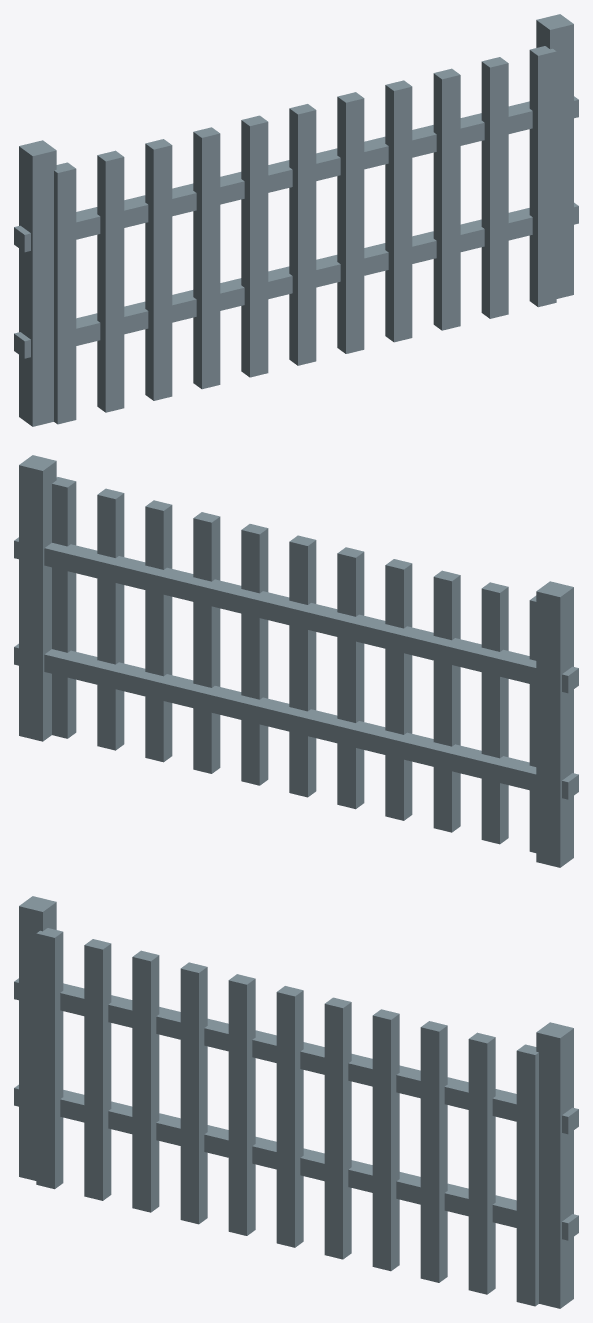
File: metal_fence.glb
The picture shows the model from 3 angles, top to bottom: view 1: azimuth 30°, elevation 25°; view 2: azimuth 150°, elevation 25°; view 3: azimuth 330°, elevation 25°; orthographic projection.
Visible parts, largest first — view 1: metal_fence_000, metal_fence_003, metal_fence_002, metal_fence_007, metal_fence_005, metal_fence_006, metal_fence_008, metal_fence_009, metal_fence_011, metal_fence_012, metal_fence_013, metal_fence_010 (+3 smaller); view 2: metal_fence_003, metal_fence_002, metal_fence_000, metal_fence_001, metal_fence_010, metal_fence_005, metal_fence_008, metal_fence_009, metal_fence_007, metal_fence_011, metal_fence_006, metal_fence_012 (+3 smaller); view 3: metal_fence_001, metal_fence_003, metal_fence_002, metal_fence_011, metal_fence_010, metal_fence_012, metal_fence_013, metal_fence_005, metal_fence_006, metal_fence_007, metal_fence_009, metal_fence_008 (+3 smaller).
Boxes of the visible parts, x1=… form: metal_fence_000: x1=19, y1=140, x2=56, y2=426; metal_fence_003: x1=14, y1=96, x2=578, y2=252; metal_fence_002: x1=14, y1=202, x2=578, y2=358; metal_fence_007: x1=193, y1=127, x2=220, y2=389; metal_fence_005: x1=97, y1=150, x2=124, y2=412; metal_fence_006: x1=145, y1=139, x2=172, y2=400; metal_fence_008: x1=241, y1=115, x2=268, y2=377; metal_fence_009: x1=289, y1=104, x2=316, y2=365; metal_fence_011: x1=385, y1=80, x2=412, y2=342; metal_fence_012: x1=433, y1=68, x2=460, y2=330; metal_fence_013: x1=481, y1=57, x2=508, y2=318; metal_fence_010: x1=337, y1=92, x2=364, y2=353; metal_fence_003: x1=14, y1=537, x2=578, y2=693; metal_fence_002: x1=14, y1=643, x2=578, y2=799; metal_fence_000: x1=536, y1=581, x2=573, y2=867; metal_fence_001: x1=19, y1=455, x2=56, y2=741; metal_fence_010: x1=241, y1=524, x2=268, y2=785; metal_fence_005: x1=481, y1=582, x2=508, y2=844; metal_fence_008: x1=337, y1=547, x2=364, y2=809; metal_fence_009: x1=289, y1=535, x2=316, y2=797; metal_fence_007: x1=385, y1=559, x2=412, y2=820; metal_fence_011: x1=193, y1=512, x2=220, y2=773; metal_fence_006: x1=433, y1=570, x2=460, y2=832; metal_fence_012: x1=145, y1=500, x2=172, y2=762; metal_fence_001: x1=536, y1=1022, x2=573, y2=1308; metal_fence_003: x1=14, y1=978, x2=578, y2=1134; metal_fence_002: x1=14, y1=1084, x2=578, y2=1240; metal_fence_011: x1=372, y1=1009, x2=399, y2=1271; metal_fence_010: x1=324, y1=997, x2=351, y2=1259; metal_fence_012: x1=420, y1=1021, x2=447, y2=1282; metal_fence_013: x1=468, y1=1032, x2=495, y2=1294; metal_fence_005: x1=84, y1=939, x2=111, y2=1200; metal_fence_006: x1=132, y1=950, x2=159, y2=1212; metal_fence_007: x1=180, y1=962, x2=207, y2=1224; metal_fence_009: x1=276, y1=986, x2=303, y2=1247; metal_fence_008: x1=228, y1=974, x2=255, y2=1235.
Size of the model in its own units: 3 by 1.4 by 0.165.
